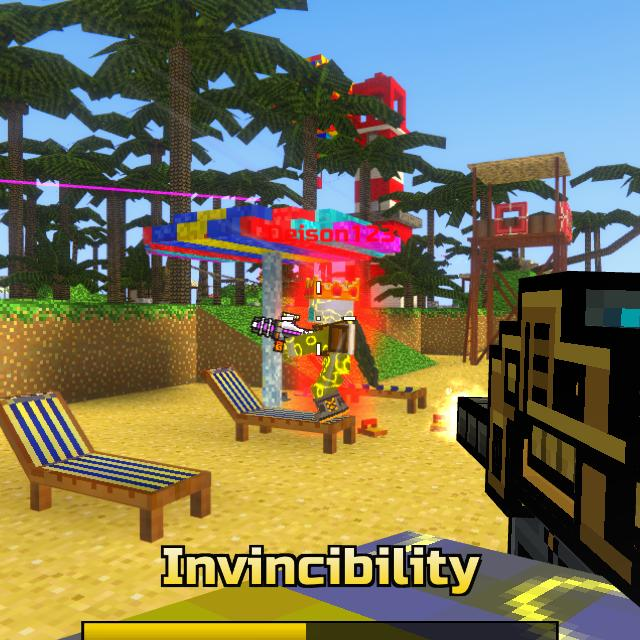Enemy: (285, 285, 356, 423)
